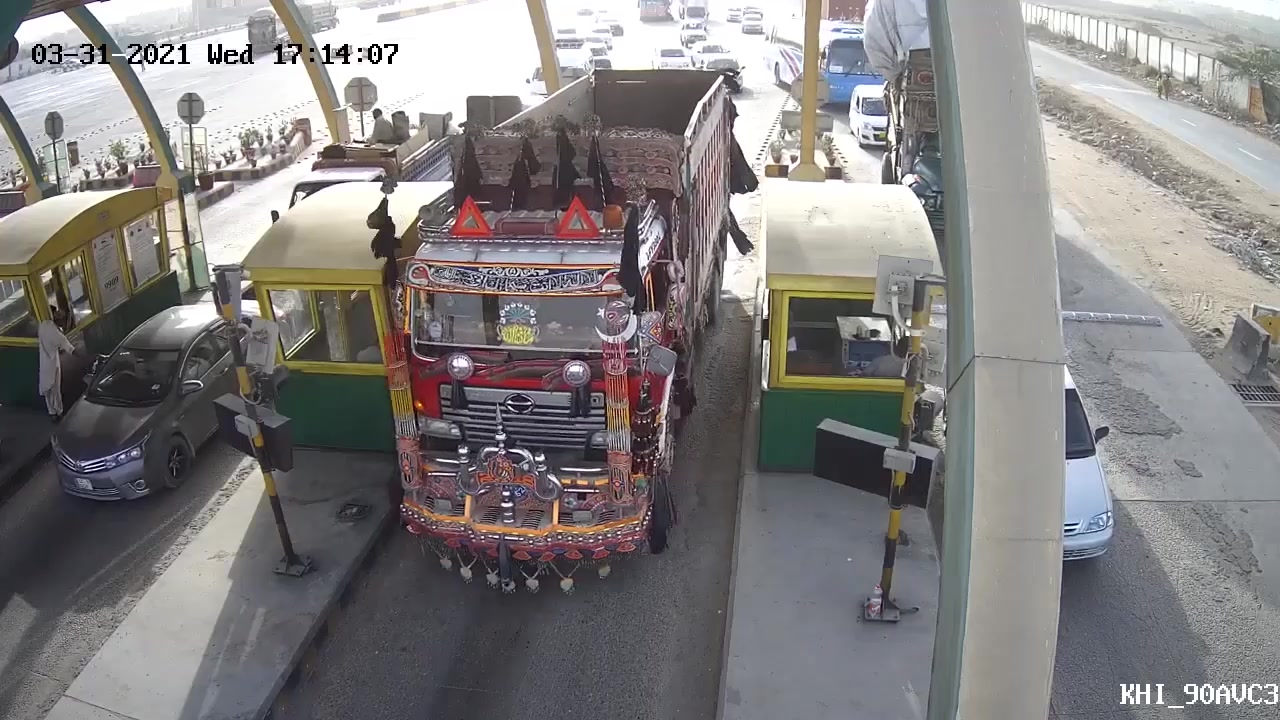F5: (383, 60, 740, 591)
